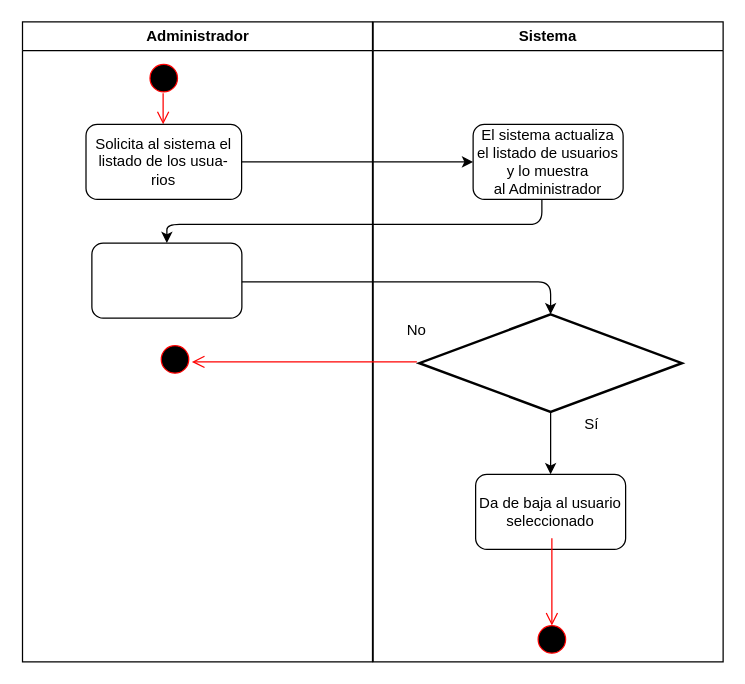
This 745x684 diagram has some shape labels left out. Here are the shapes that lost their labels. From the top down, the centre of each, then its label:
At point (166, 280): "Selecciona el usuario a dar de baja.".
At point (550, 362): "¿Está seguro en eliminar este usuario?".
